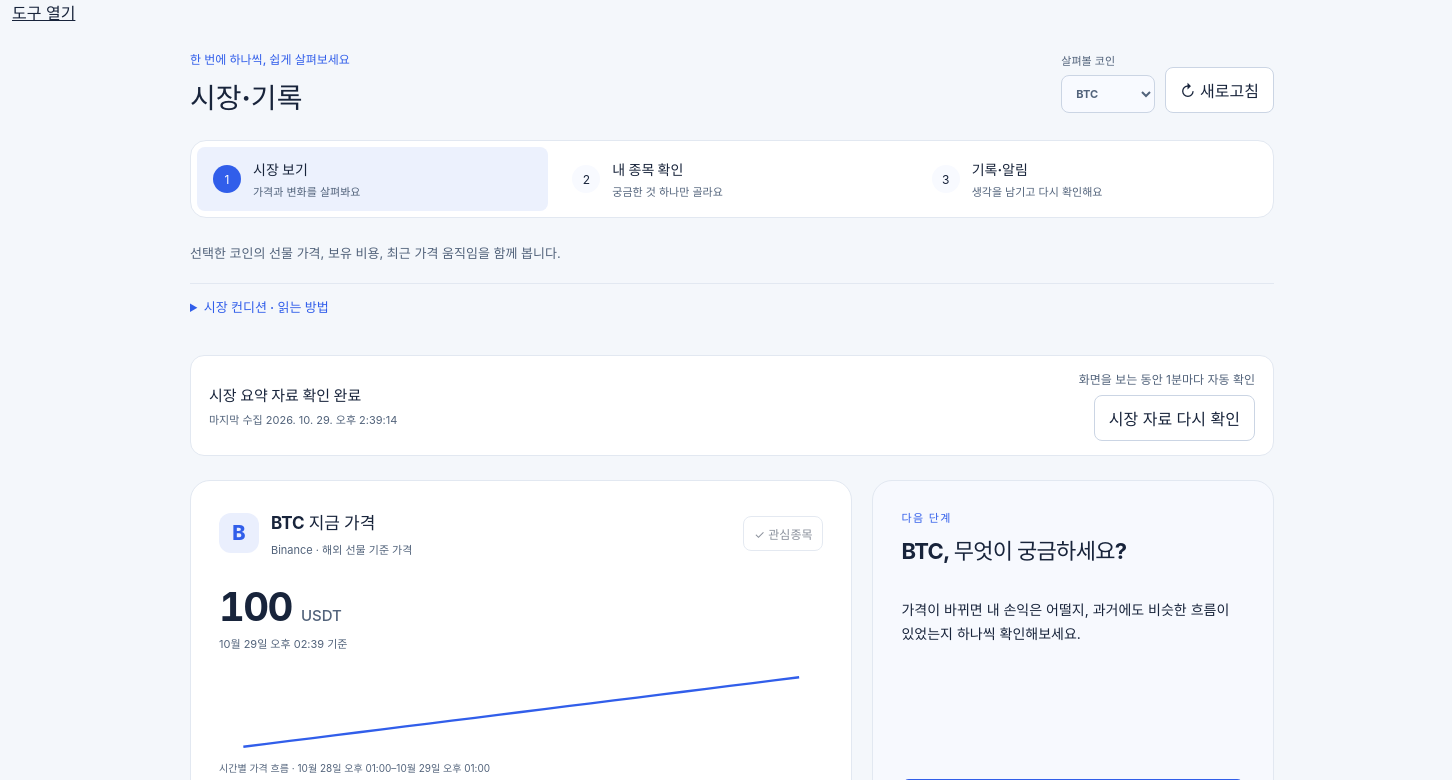
it: guided research tools share real calculations and drafts › does not fill prices when exchange observations are misaligned
This screenshot has width=1452, height=780.
Expected: the text "100" is shown, [219,582,292,630]
Click the link "도구 열기": x=44, y=13 [12,3,75,23]
(page scrolled)
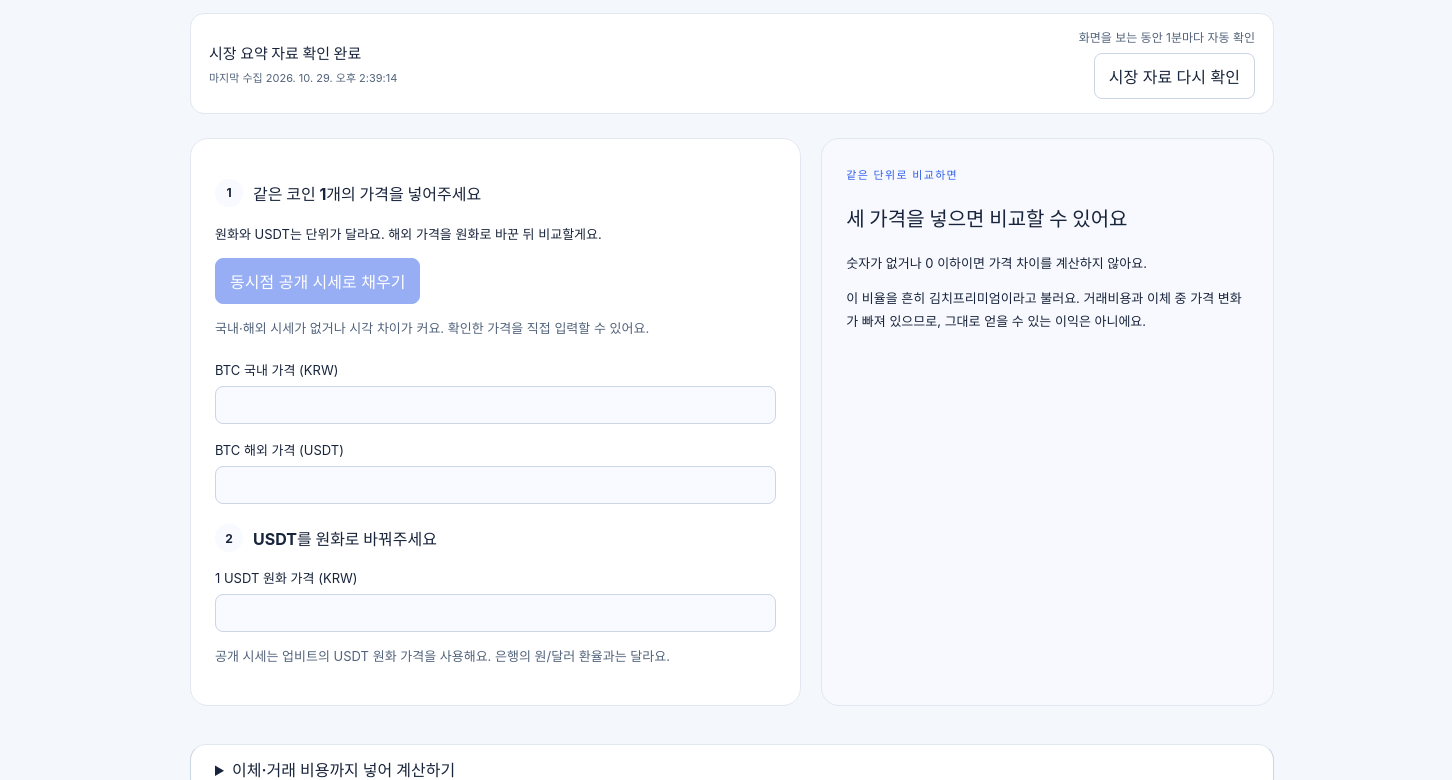
Expected: the button "동시점 공개 시세로 채우기" is disabled, [215,258,420,304]
Expected: the number field labelled "BTC 국내 가격 (KRW)" is empty, [215,386,776,424]
